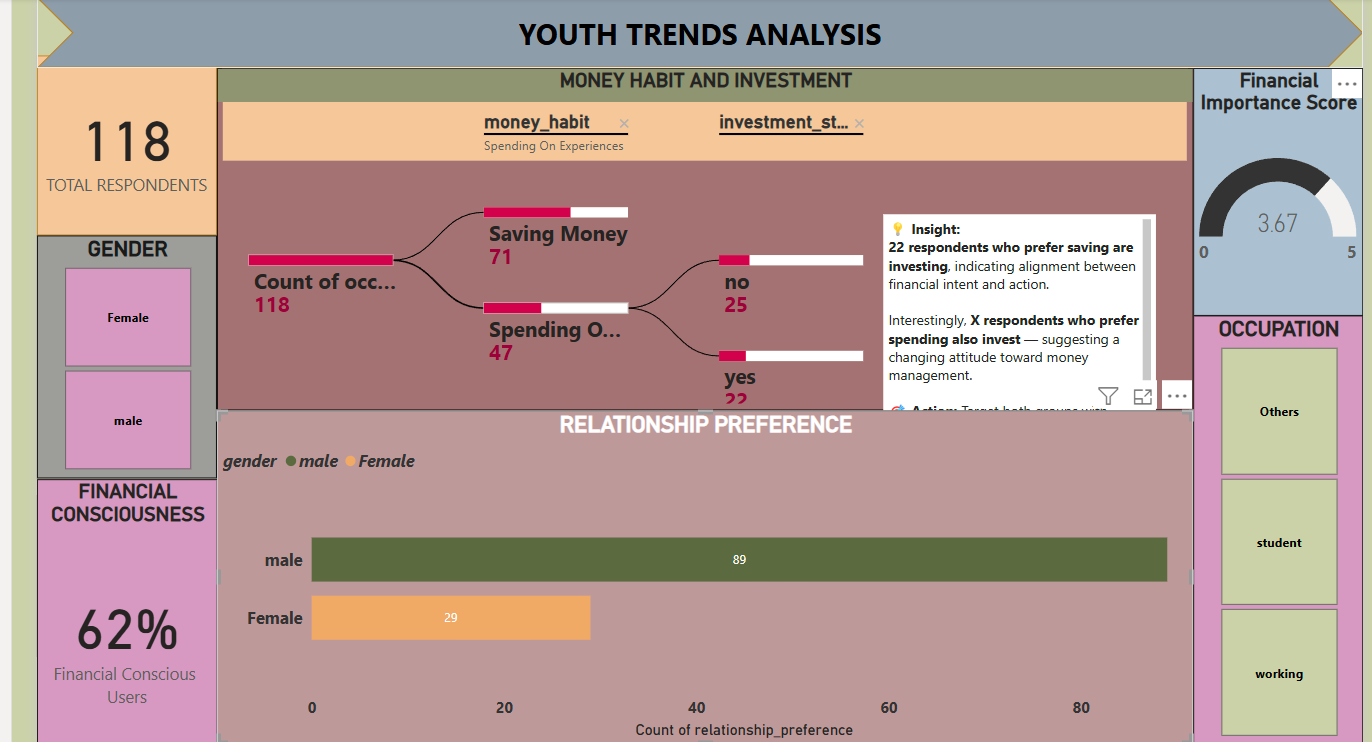

This screenshot's page, from the dashboard's own definition file:
{"tool":"powerbi","page":{"name":"Page 1","canvas":[1280,720],"ordinal":0},"visuals":[{"type":"card","fields":{"Values":["CountNonNull(major_project youth_survey.gender)"]},"box":[0,55.5,173.7,173.7],"z":0},{"type":"slicer","title":"GENDER","fields":{"Values":["major_project youth_survey.gender"]},"box":[0,229.2,173.7,234],"z":1000},{"type":"slicer","title":"OCCUPATION","fields":{"Values":["major_project youth_survey.occupation"]},"box":[1116,306.4,164.1,413.8],"z":2000},{"type":"gauge","title":"Financial Importance Score","fields":{"MaxValue":["Max(major_project youth_survey.financial_importance)1"],"TargetValue":["Sum(major_project youth_survey.financial_importance)2"],"Y":["Avg(major_project youth_survey.financial_importance)"],"MinValue":["Min(major_project youth_survey.financial_importance)"]},"box":[1116,67.6,164.1,238.9],"z":4000},{"type":"decompositionTreeVisual","title":"MONEY HABIT AND INVESTMENT","fields":{"Analyze":["CountNonNull(major_project youth_survey.occupation)"],"ExplainBy":["major_project youth_survey.money_habit","major_project youth_survey.investment_status"]},"box":[173.7,67.6,942.2,330.6],"z":5000},{"type":"card","title":"FINANCIAL CONSCIOUSNESS","fields":{"Values":["major_project youth_survey.% financial conscious"]},"box":[0,463.9,174.2,255.8],"z":6000},{"type":"barChart","title":"RELATIONSHIP PREFERENCE","fields":{"Category":["major_project youth_survey.gender"],"Y":["CountNonNull(major_project youth_survey.relationship_preference)"],"Series":["major_project youth_survey.gender"]},"box":[173.7,398.1,942.2,322.1],"z":7000},{"type":"textbox","box":[838.5,67.6,257,12.1],"z":8000},{"type":"shape","box":[0,0,1280,67.6],"z":8001}]}

Visuals, with their boxes on the page's 1280x720 design canvas (x1, y1, x2, y2). These are canvas units, not pixel positions in the 1372x742 screenshot, which may show the page scaled, cropped or inside an application window:
card - CountNonNull(major_project youth_survey.gender): rect(0, 56, 174, 229)
"GENDER" slicer: rect(0, 229, 174, 463)
"OCCUPATION" slicer: rect(1116, 306, 1280, 720)
"Financial Importance Score" gauge: rect(1116, 68, 1280, 306)
"MONEY HABIT AND INVESTMENT" decompositionTreeVisual: rect(174, 68, 1116, 398)
"FINANCIAL CONSCIOUSNESS" card: rect(0, 464, 174, 720)
"RELATIONSHIP PREFERENCE" barChart: rect(174, 398, 1116, 720)
textbox: rect(838, 68, 1096, 80)
shape: rect(0, 0, 1280, 68)
